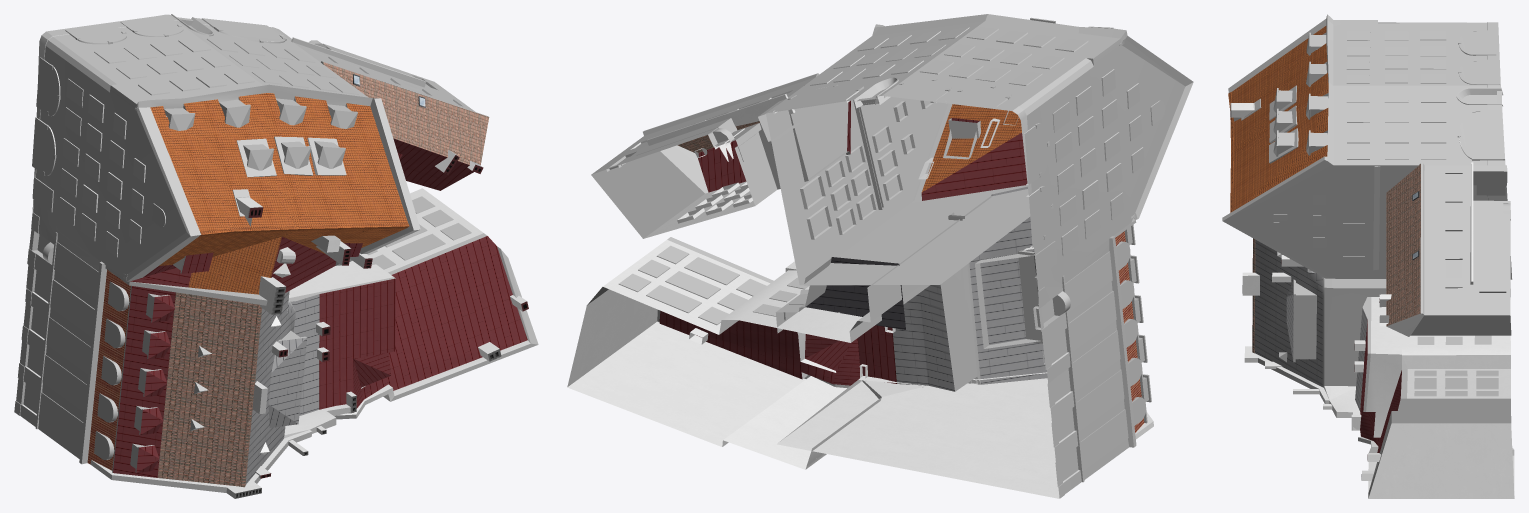
Rendered from Rataskaevu_1.obj.
3 renders of one model, left to right at view 1: azimuth 30°, elevation 25°; view 2: azimuth 150°, elevation 25°; view 3: azimuth 270°, elevation 25°, orthographic. The views are drawn at different scales.
Visible parts, largest first — view 1: Rataskaevu_1; view 2: Rataskaevu_1; view 3: Rataskaevu_1.
Boxes of the visible parts, x1,y1,x2,y2 form: Rataskaevu_1: (14,14,538,498); Rataskaevu_1: (567,14,1193,498); Rataskaevu_1: (1222,14,1514,498).
Bounding box in the file's own units: 44.79 × 36.96 × 29.17.
